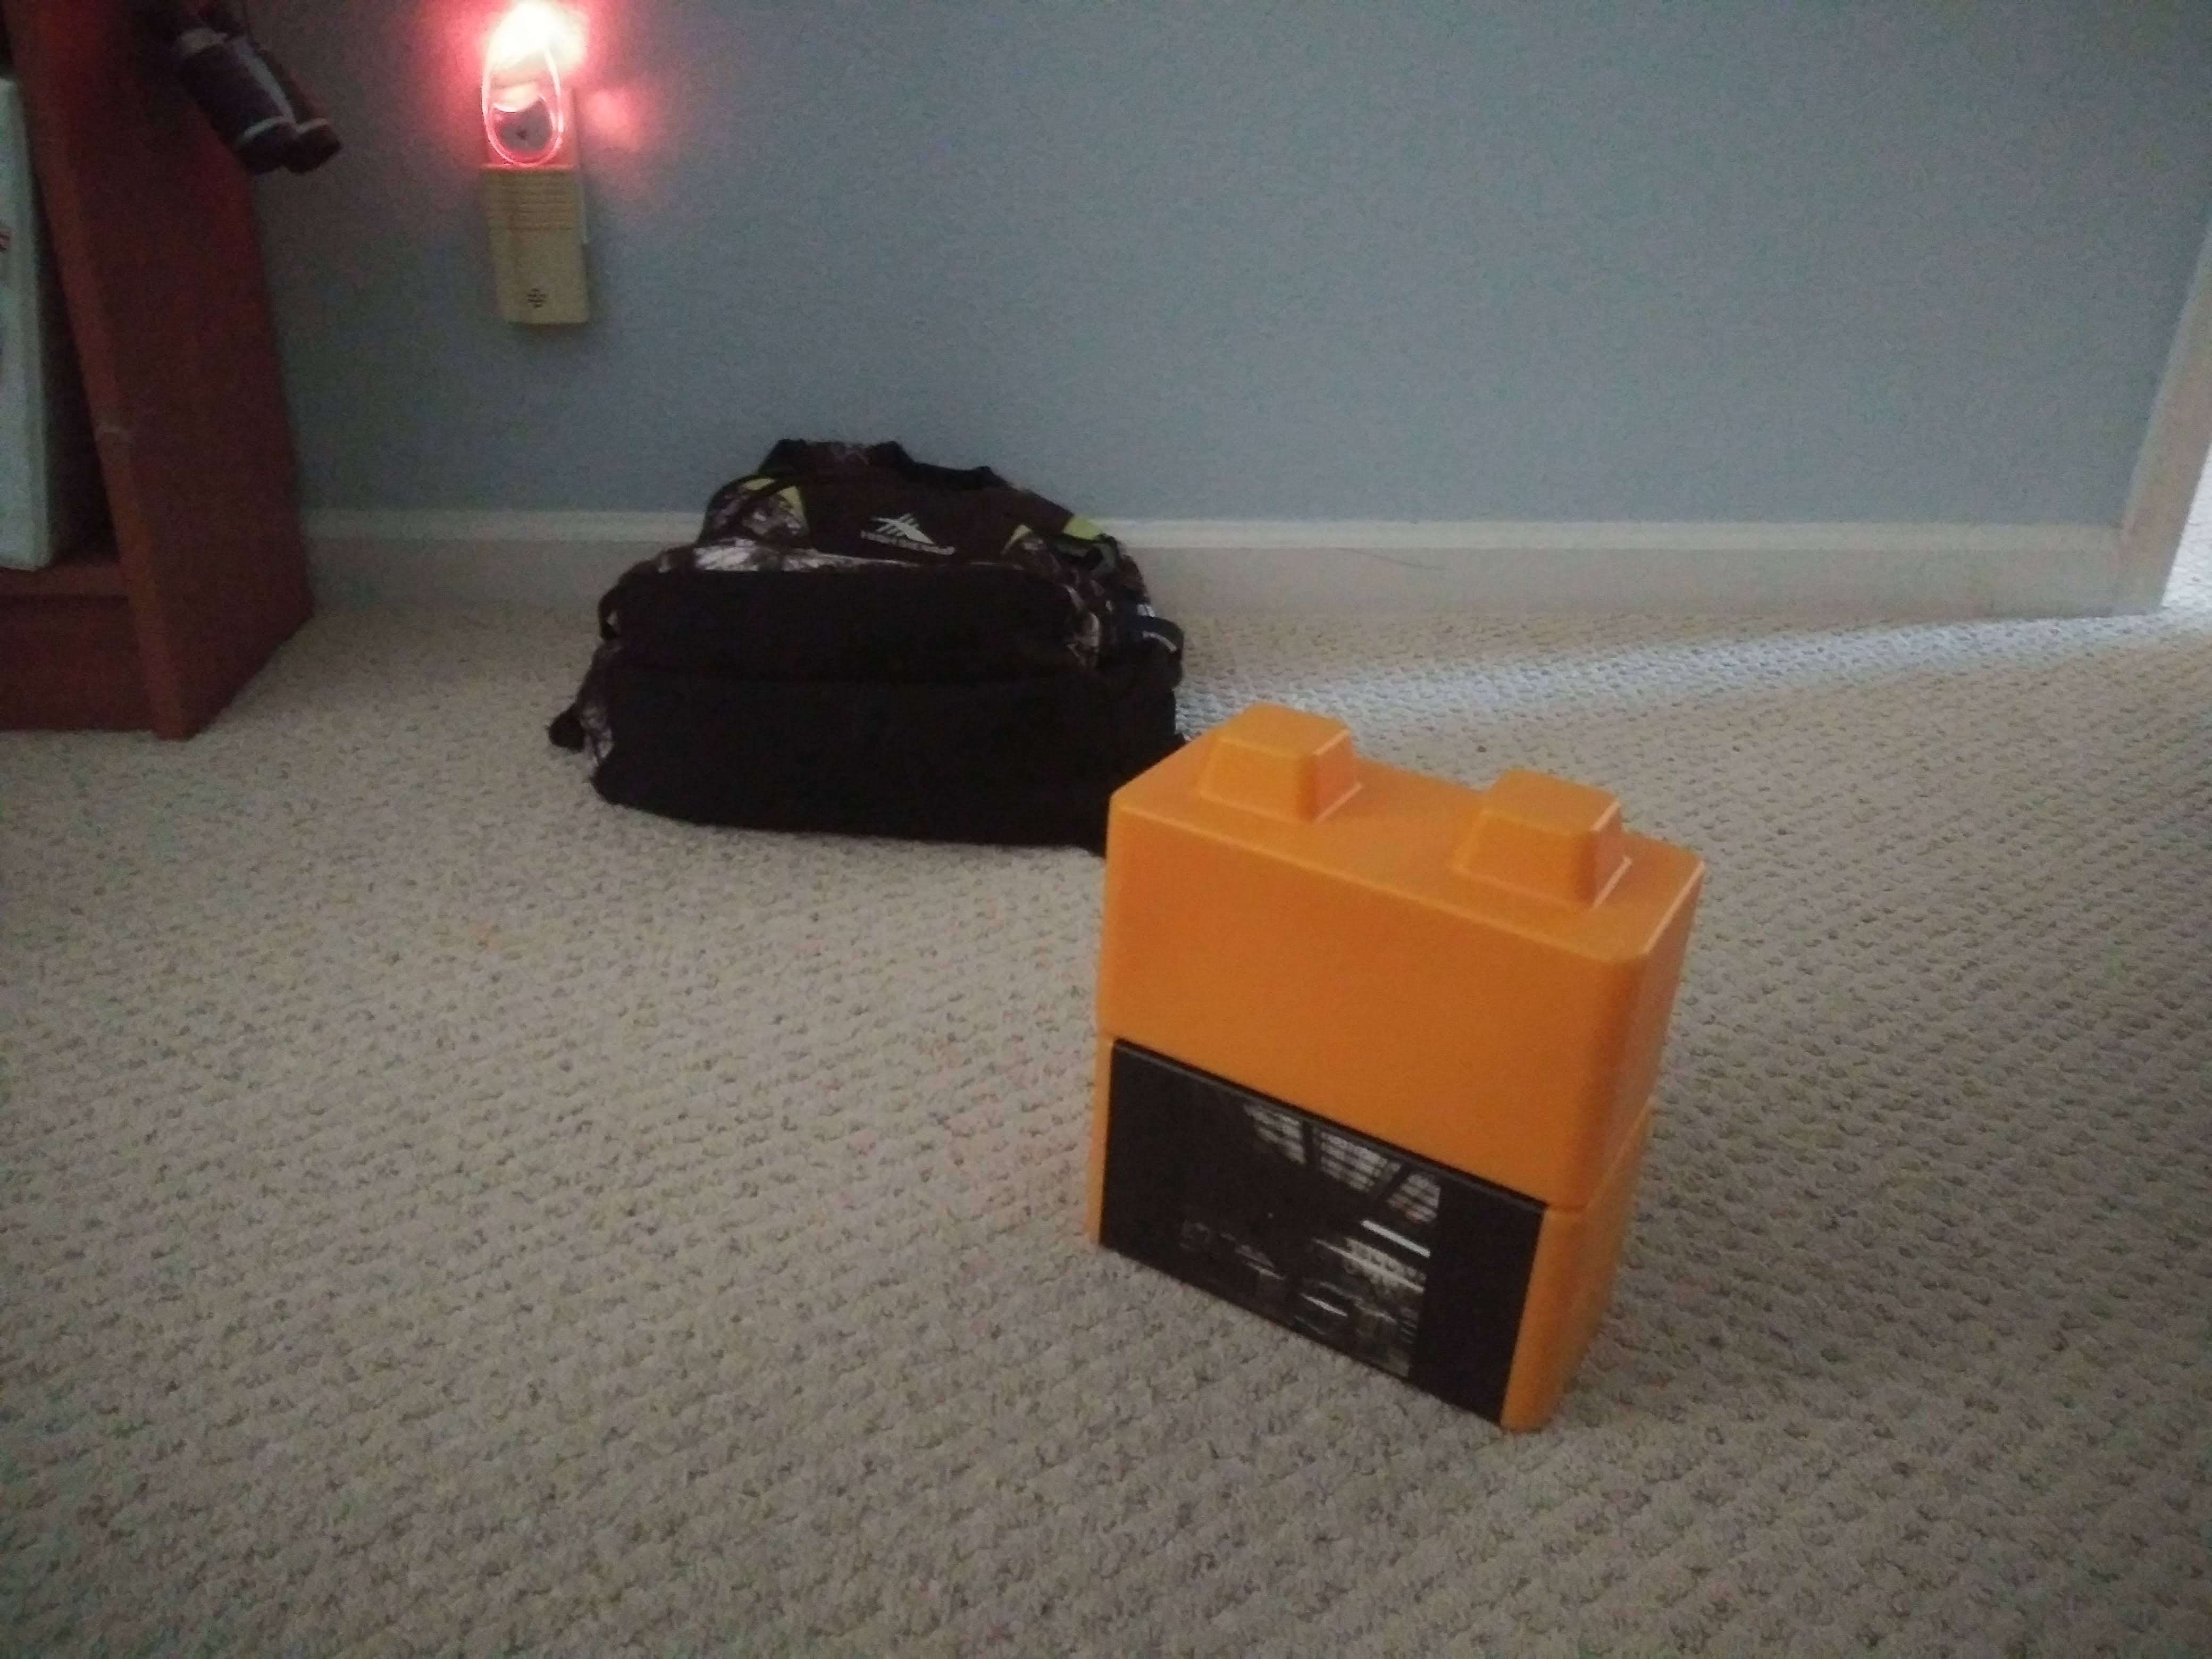skystone: (1094, 1094, 1554, 1375)
stone: (1104, 782, 1625, 1075)
